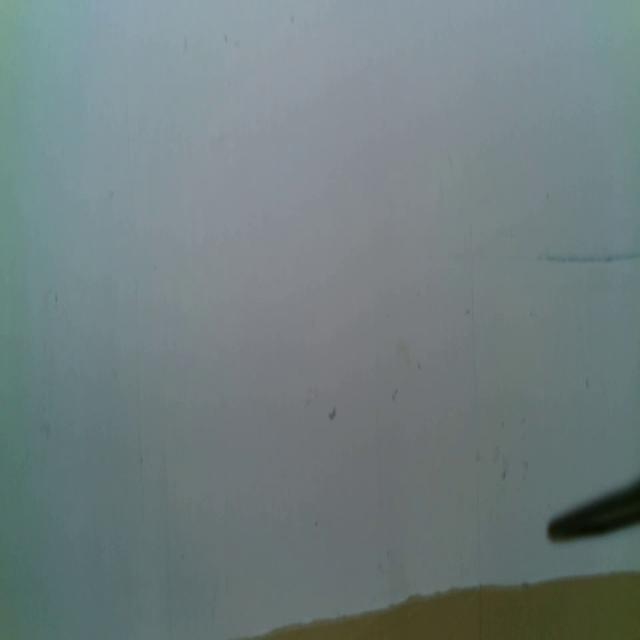crease: (467, 217, 483, 640)
